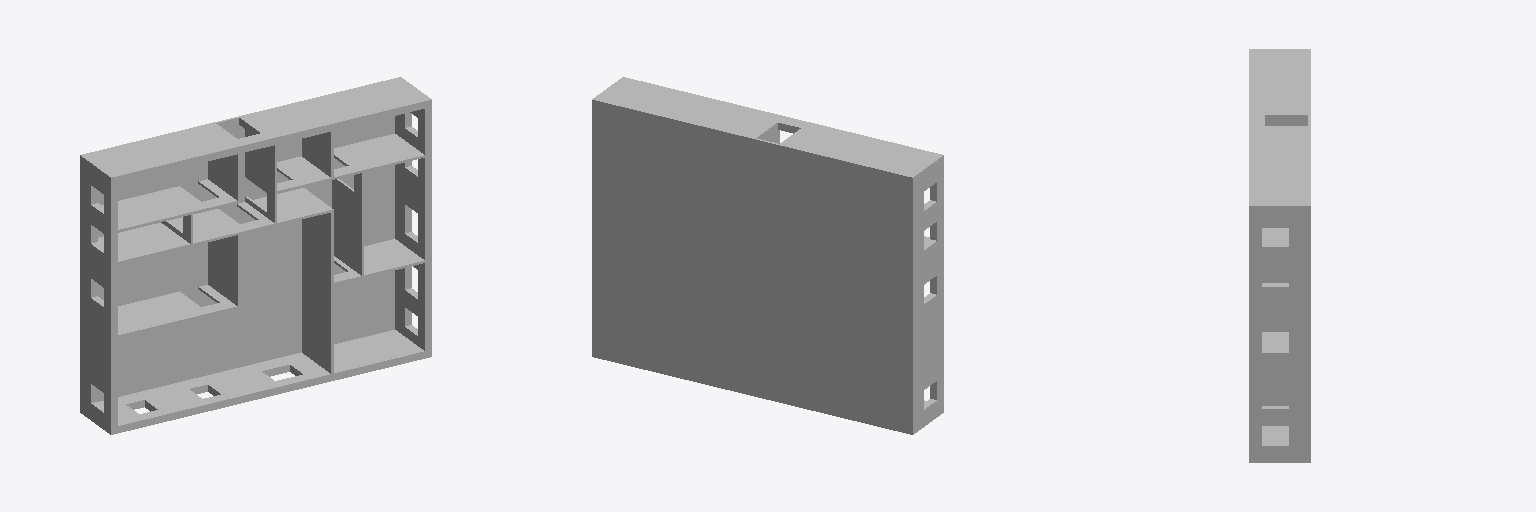
The model's file is progettoCasa.obj.
The picture shows the model from 3 angles: view 1: azimuth 30°, elevation 25°; view 2: azimuth 150°, elevation 25°; view 3: azimuth 270°, elevation 25°; orthographic projection.
Bounding box in the file's own units: 137 × 105 × 23.